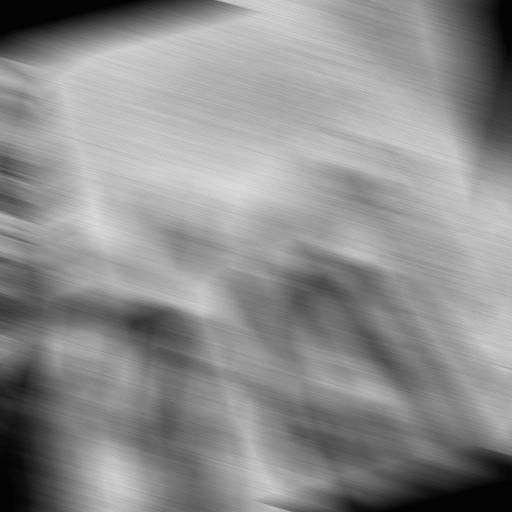house: (37, 0, 512, 495)
top_right: (2, 55, 37, 79)
